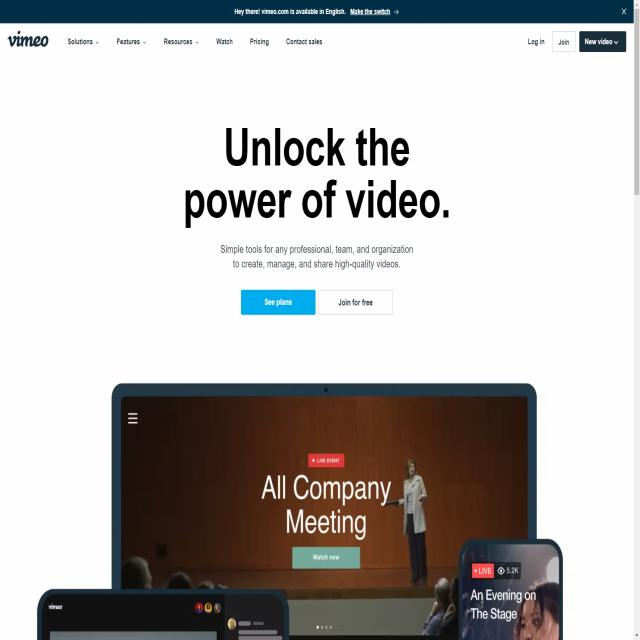menu-bar: (60, 30, 327, 52), (523, 29, 627, 54)
